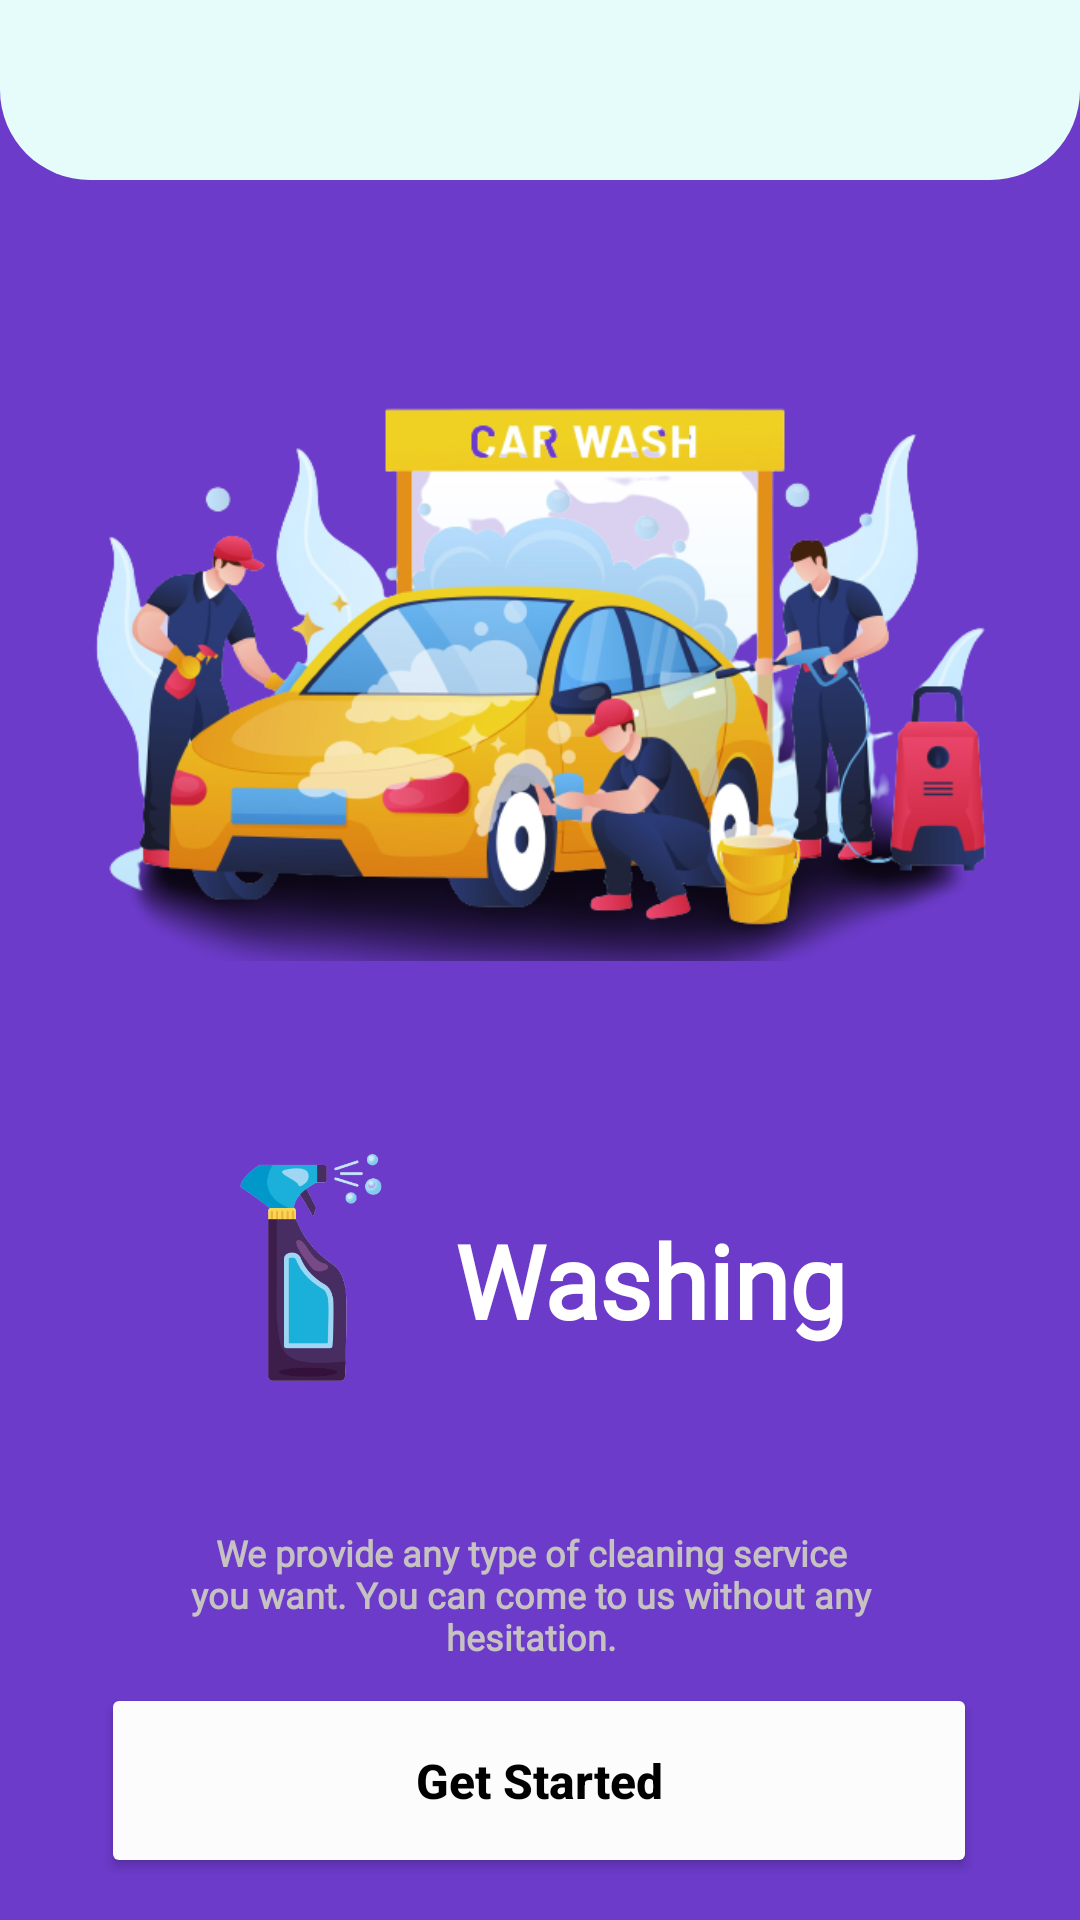

Named icons in this screenshot (1080 × 1920) and their centers, [x,y]:
spray: [311,1267]
